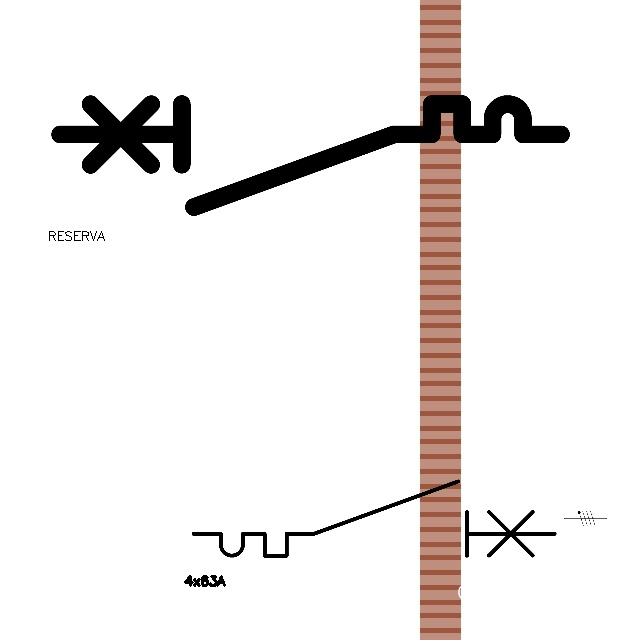interruptor_termomagnetico: (47, 91, 574, 220), (184, 472, 564, 565)
